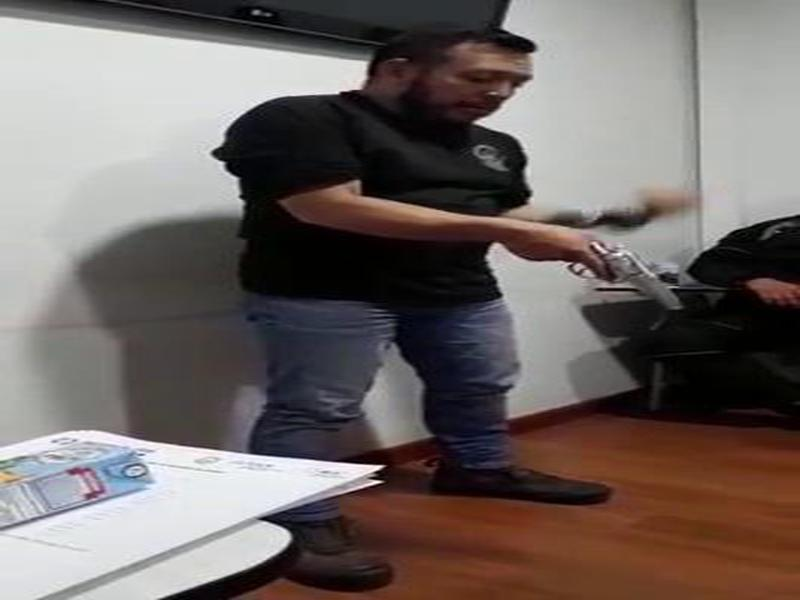Revolver: (556, 226, 692, 345)
